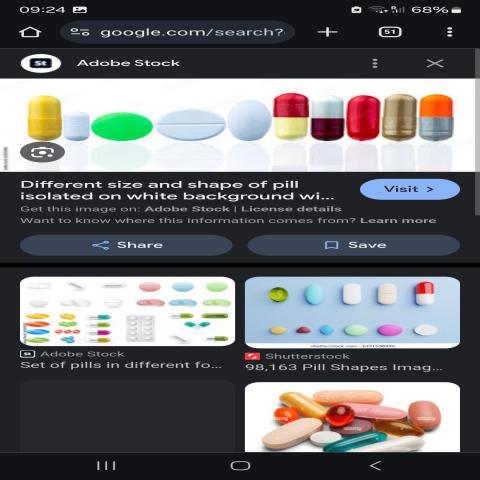Pill: (19, 92, 73, 145), (150, 106, 226, 141), (418, 91, 467, 142), (377, 91, 417, 148), (224, 97, 269, 147), (274, 94, 313, 148), (308, 90, 344, 146), (61, 109, 92, 144)
